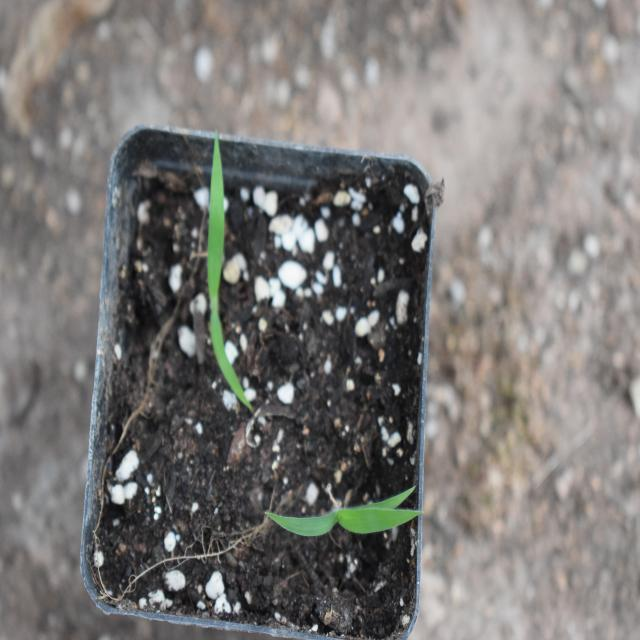crabgrass: (160, 135, 276, 413), (271, 460, 417, 570)
